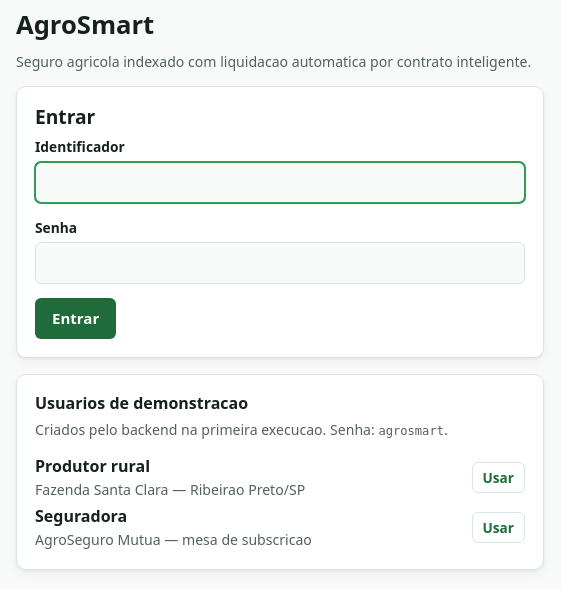
Test: autenticacao e perfis › os atalhos de demonstracao preenchem o formulario
Click the button "Usar" in the row of "Fazenda Santa Clara — Ribeirao Preto/SP".
click(498, 477)  # box 472,462 -> 525,493
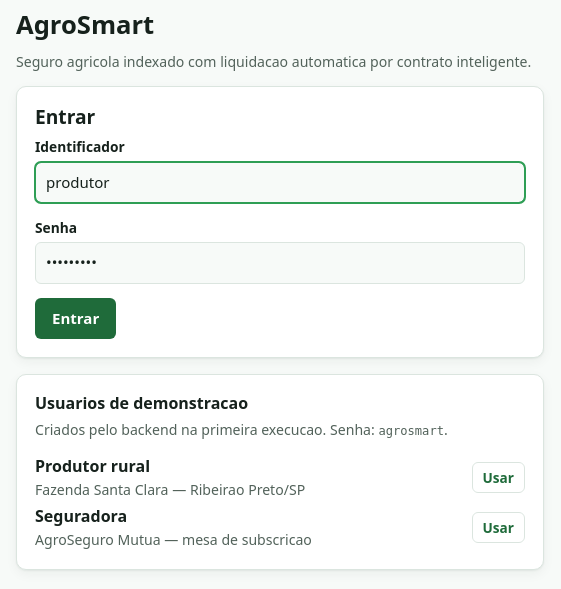
expect the field labelled "Identificador" is not empty: met, box 35,162 -> 525,203
